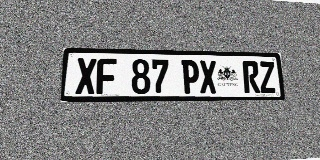7: (151, 59, 169, 94)
8: (131, 59, 150, 94)
F: (96, 58, 116, 94)
P: (181, 60, 200, 94)
R: (242, 61, 260, 93)
X: (75, 58, 97, 94), (199, 60, 217, 94)
Z: (258, 61, 276, 93)
